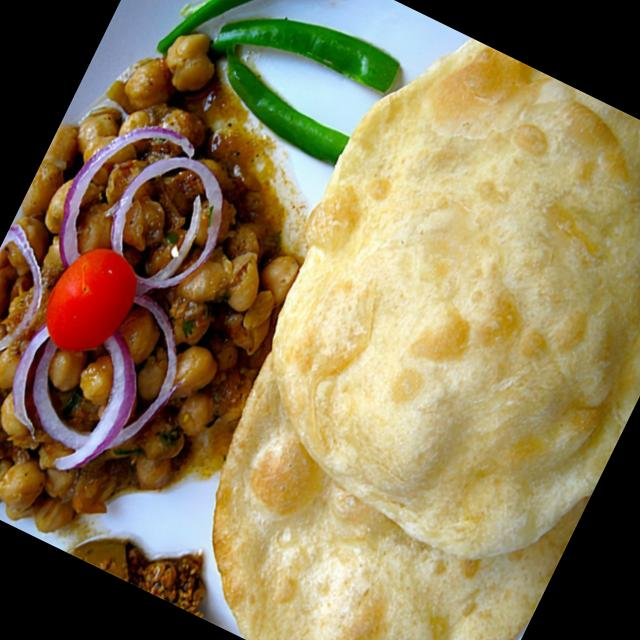Bhatura: (131, 9, 640, 640)
Chole: (0, 40, 334, 577)
